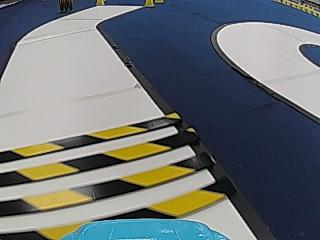bump: (2, 114, 224, 232)
